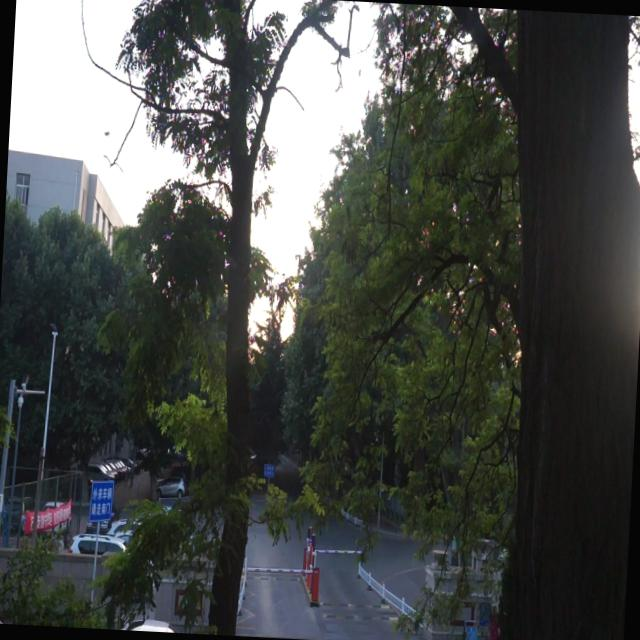drone: (100, 124, 114, 144)
